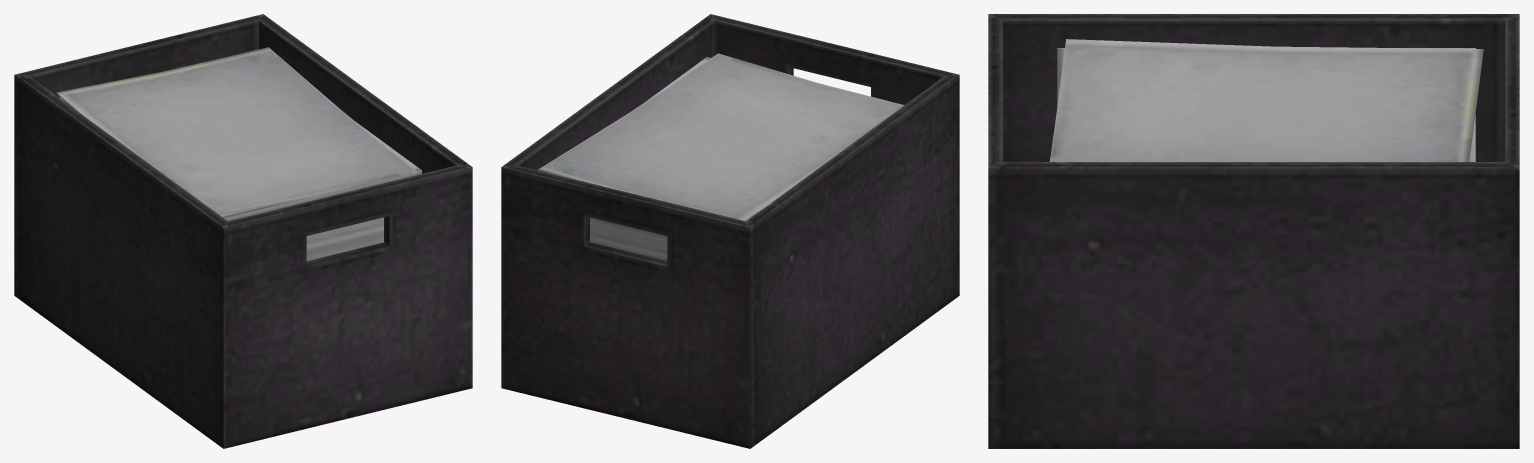
File: Document_Box.fbx
3 renders of one model, left to right at view 1: azimuth 30°, elevation 25°; view 2: azimuth 150°, elevation 25°; view 3: azimuth 270°, elevation 25°, orthographic. The views are drawn at different scales.
Visible parts, largest first — view 1: Document_Box; view 2: Document_Box; view 3: Document_Box.
Part boxes in pixels (x1,y1,x2,y2): Document_Box: (14,14,472,448); Document_Box: (501,14,959,448); Document_Box: (988,14,1519,448).
Size of the model in its own units: 0.5295 by 0.4491 by 0.7709.
